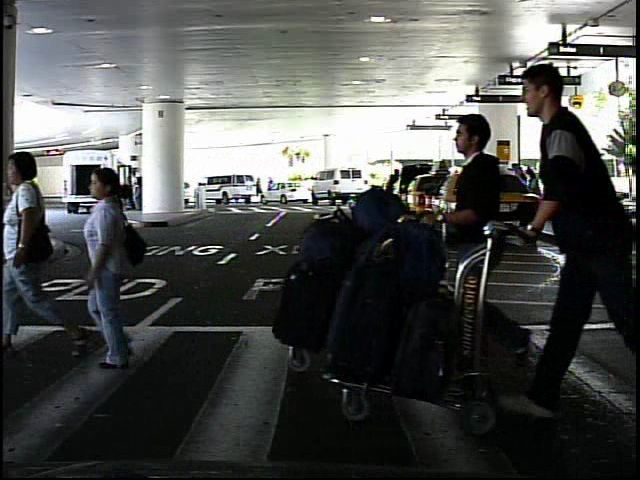person: (520, 49, 632, 426), (417, 106, 530, 394), (63, 157, 152, 382), (107, 171, 125, 221), (583, 171, 602, 217)
